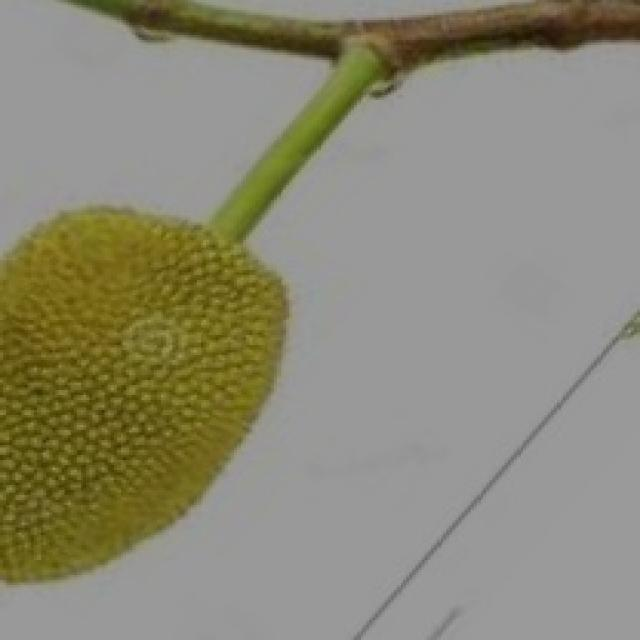Fruit: (0, 185, 326, 605)
